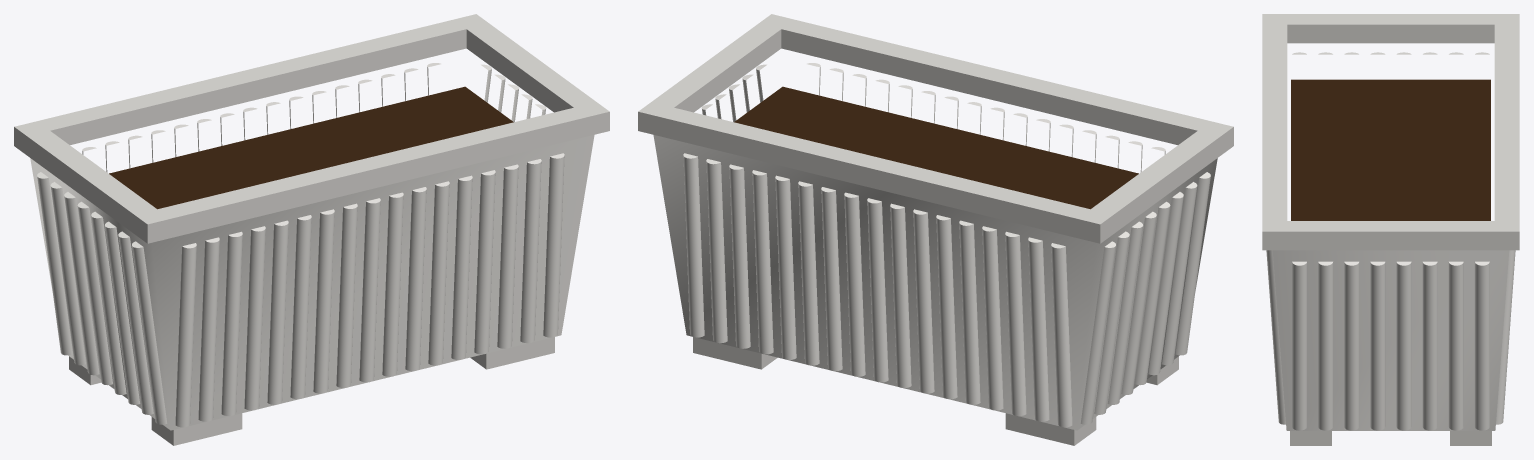
3 views of the same model, side by side, from view 1: azimuth 30°, elevation 25°; view 2: azimuth 150°, elevation 25°; view 3: azimuth 270°, elevation 25° (orthographic). The views are drawn at different scales.
Parts seen in each view (by area): view 1: shell, soil, rim-top-f, rim-top-b, rim-f, rim-b, rim-top-l, rim-top-r, flute-0-0, flute-0-1, flute-0-3, flute-0-2 (+25 smaller); view 2: shell, soil, rim-top-b, rim-top-f, rim-b, rim-f, rim-top-l, rim-top-r, flute-1-16, flute-1-13, flute-1-15, flute-1-14 (+25 smaller); view 3: soil, shell, rim-top-f, rim-top-b, rim-top-l, rim-top-r, flute-2-3, flute-2-4, flute-2-2, flute-2-5, flute-2-0, flute-2-1 (+10 smaller).
Boxes of the visible parts, <box> form: shell: <box>30,135,594,430</box>; soil: <box>109,86,513,209</box>; rim-top-f: <box>134,102,609,232</box>; rim-top-b: <box>14,14,488,144</box>; rim-f: <box>134,120,609,243</box>; rim-b: <box>14,38,466,155</box>; rim-top-l: <box>27,131,156,223</box>; rim-top-r: <box>466,23,596,109</box>; flute-0-0: <box>175,243,196,427</box>; flute-0-1: <box>198,237,219,421</box>; flute-0-3: <box>244,226,265,410</box>; flute-0-2: <box>221,231,242,416</box>; shell: <box>653,135,1217,430</box>; soil: <box>734,86,1138,209</box>; rim-top-b: <box>638,102,1113,232</box>; rim-top-f: <box>759,14,1233,144</box>; rim-b: <box>638,120,1113,243</box>; rim-f: <box>781,38,1233,155</box>; rim-top-l: <box>1091,131,1220,223</box>; rim-top-r: <box>651,23,781,109</box>; flute-1-16: <box>1051,243,1072,427</box>; flute-1-13: <box>982,226,1003,410</box>; flute-1-15: <box>1028,237,1049,421</box>; flute-1-14: <box>1005,231,1026,416</box>; soil: <box>1291,79,1490,220</box>; shell: <box>1272,250,1509,430</box>; rim-top-f: <box>1262,14,1287,239</box>; rim-top-b: <box>1494,14,1519,239</box>; rim-top-l: <box>1287,14,1494,33</box>; rim-top-r: <box>1287,221,1494,239</box>; flute-2-3: <box>1370,261,1385,430</box>; flute-2-4: <box>1396,261,1411,430</box>; flute-2-2: <box>1344,261,1359,430</box>; flute-2-5: <box>1422,261,1437,430</box>; flute-2-0: <box>1292,261,1307,430</box>; flute-2-1: <box>1318,261,1333,430</box>.
Size of the model in its own units: 0.6 by 0.3 by 0.3.
